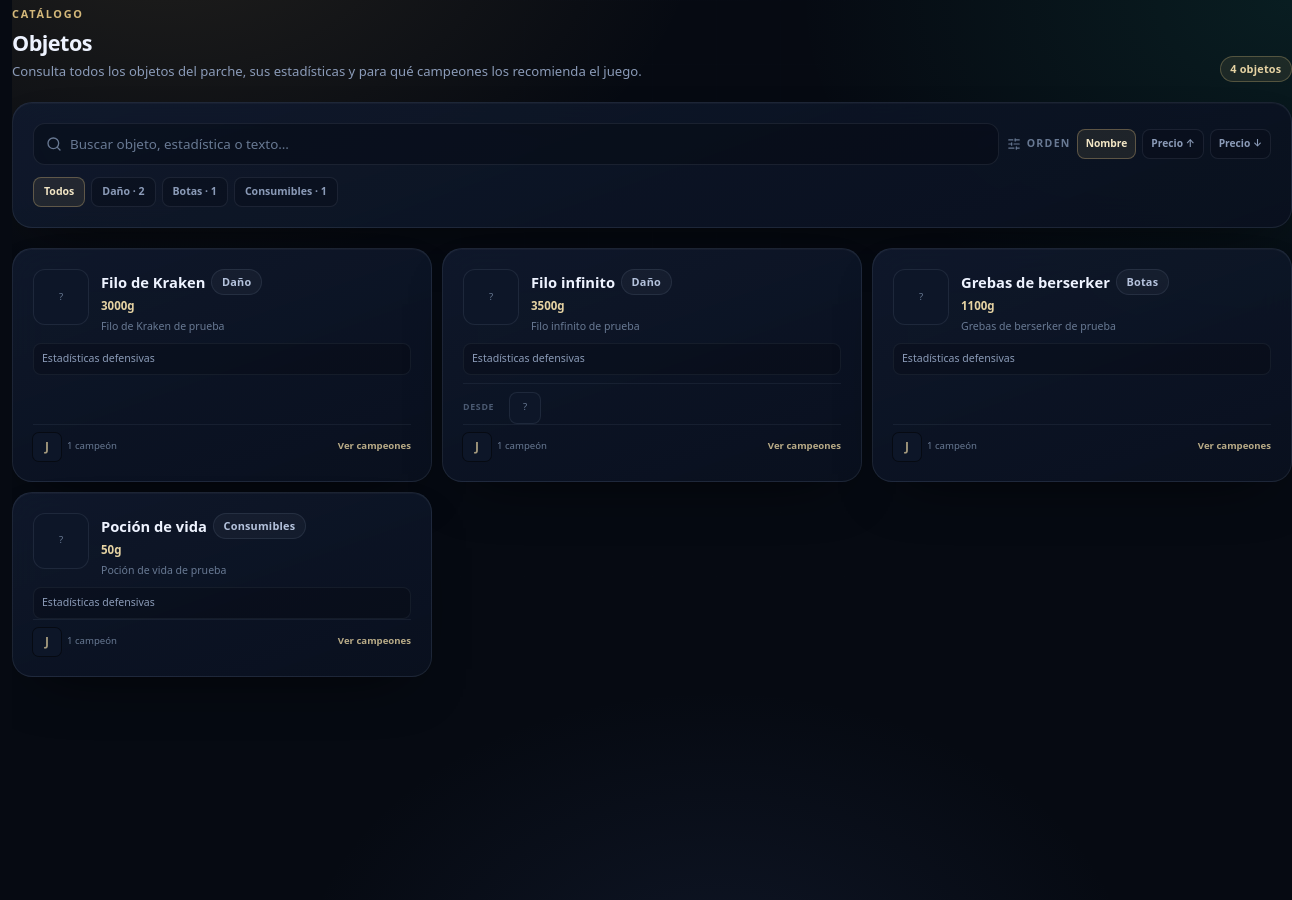
Test: catálogo de objetos › muestra el estado vacío cuando no hay coincidencias
The width and height of the screenshot is (1292, 900).
Type "objeto inexistente" into the field with placeholder "Buscar objeto, estadística o texto…". click: (528, 144)
box: [70,124,986,164]
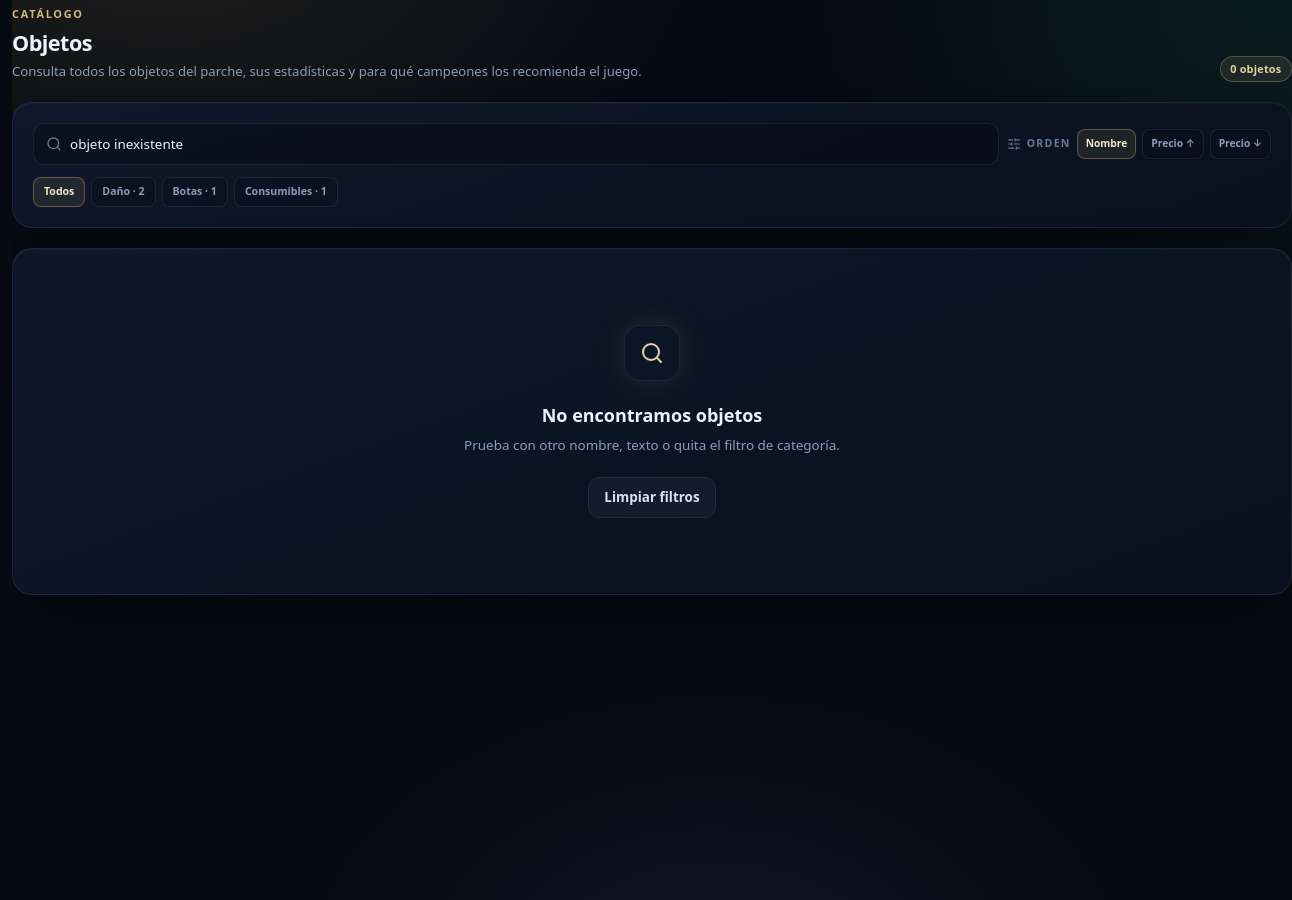
Result: the heading "No encontramos objetos" is shown at [542,401,762,429]
